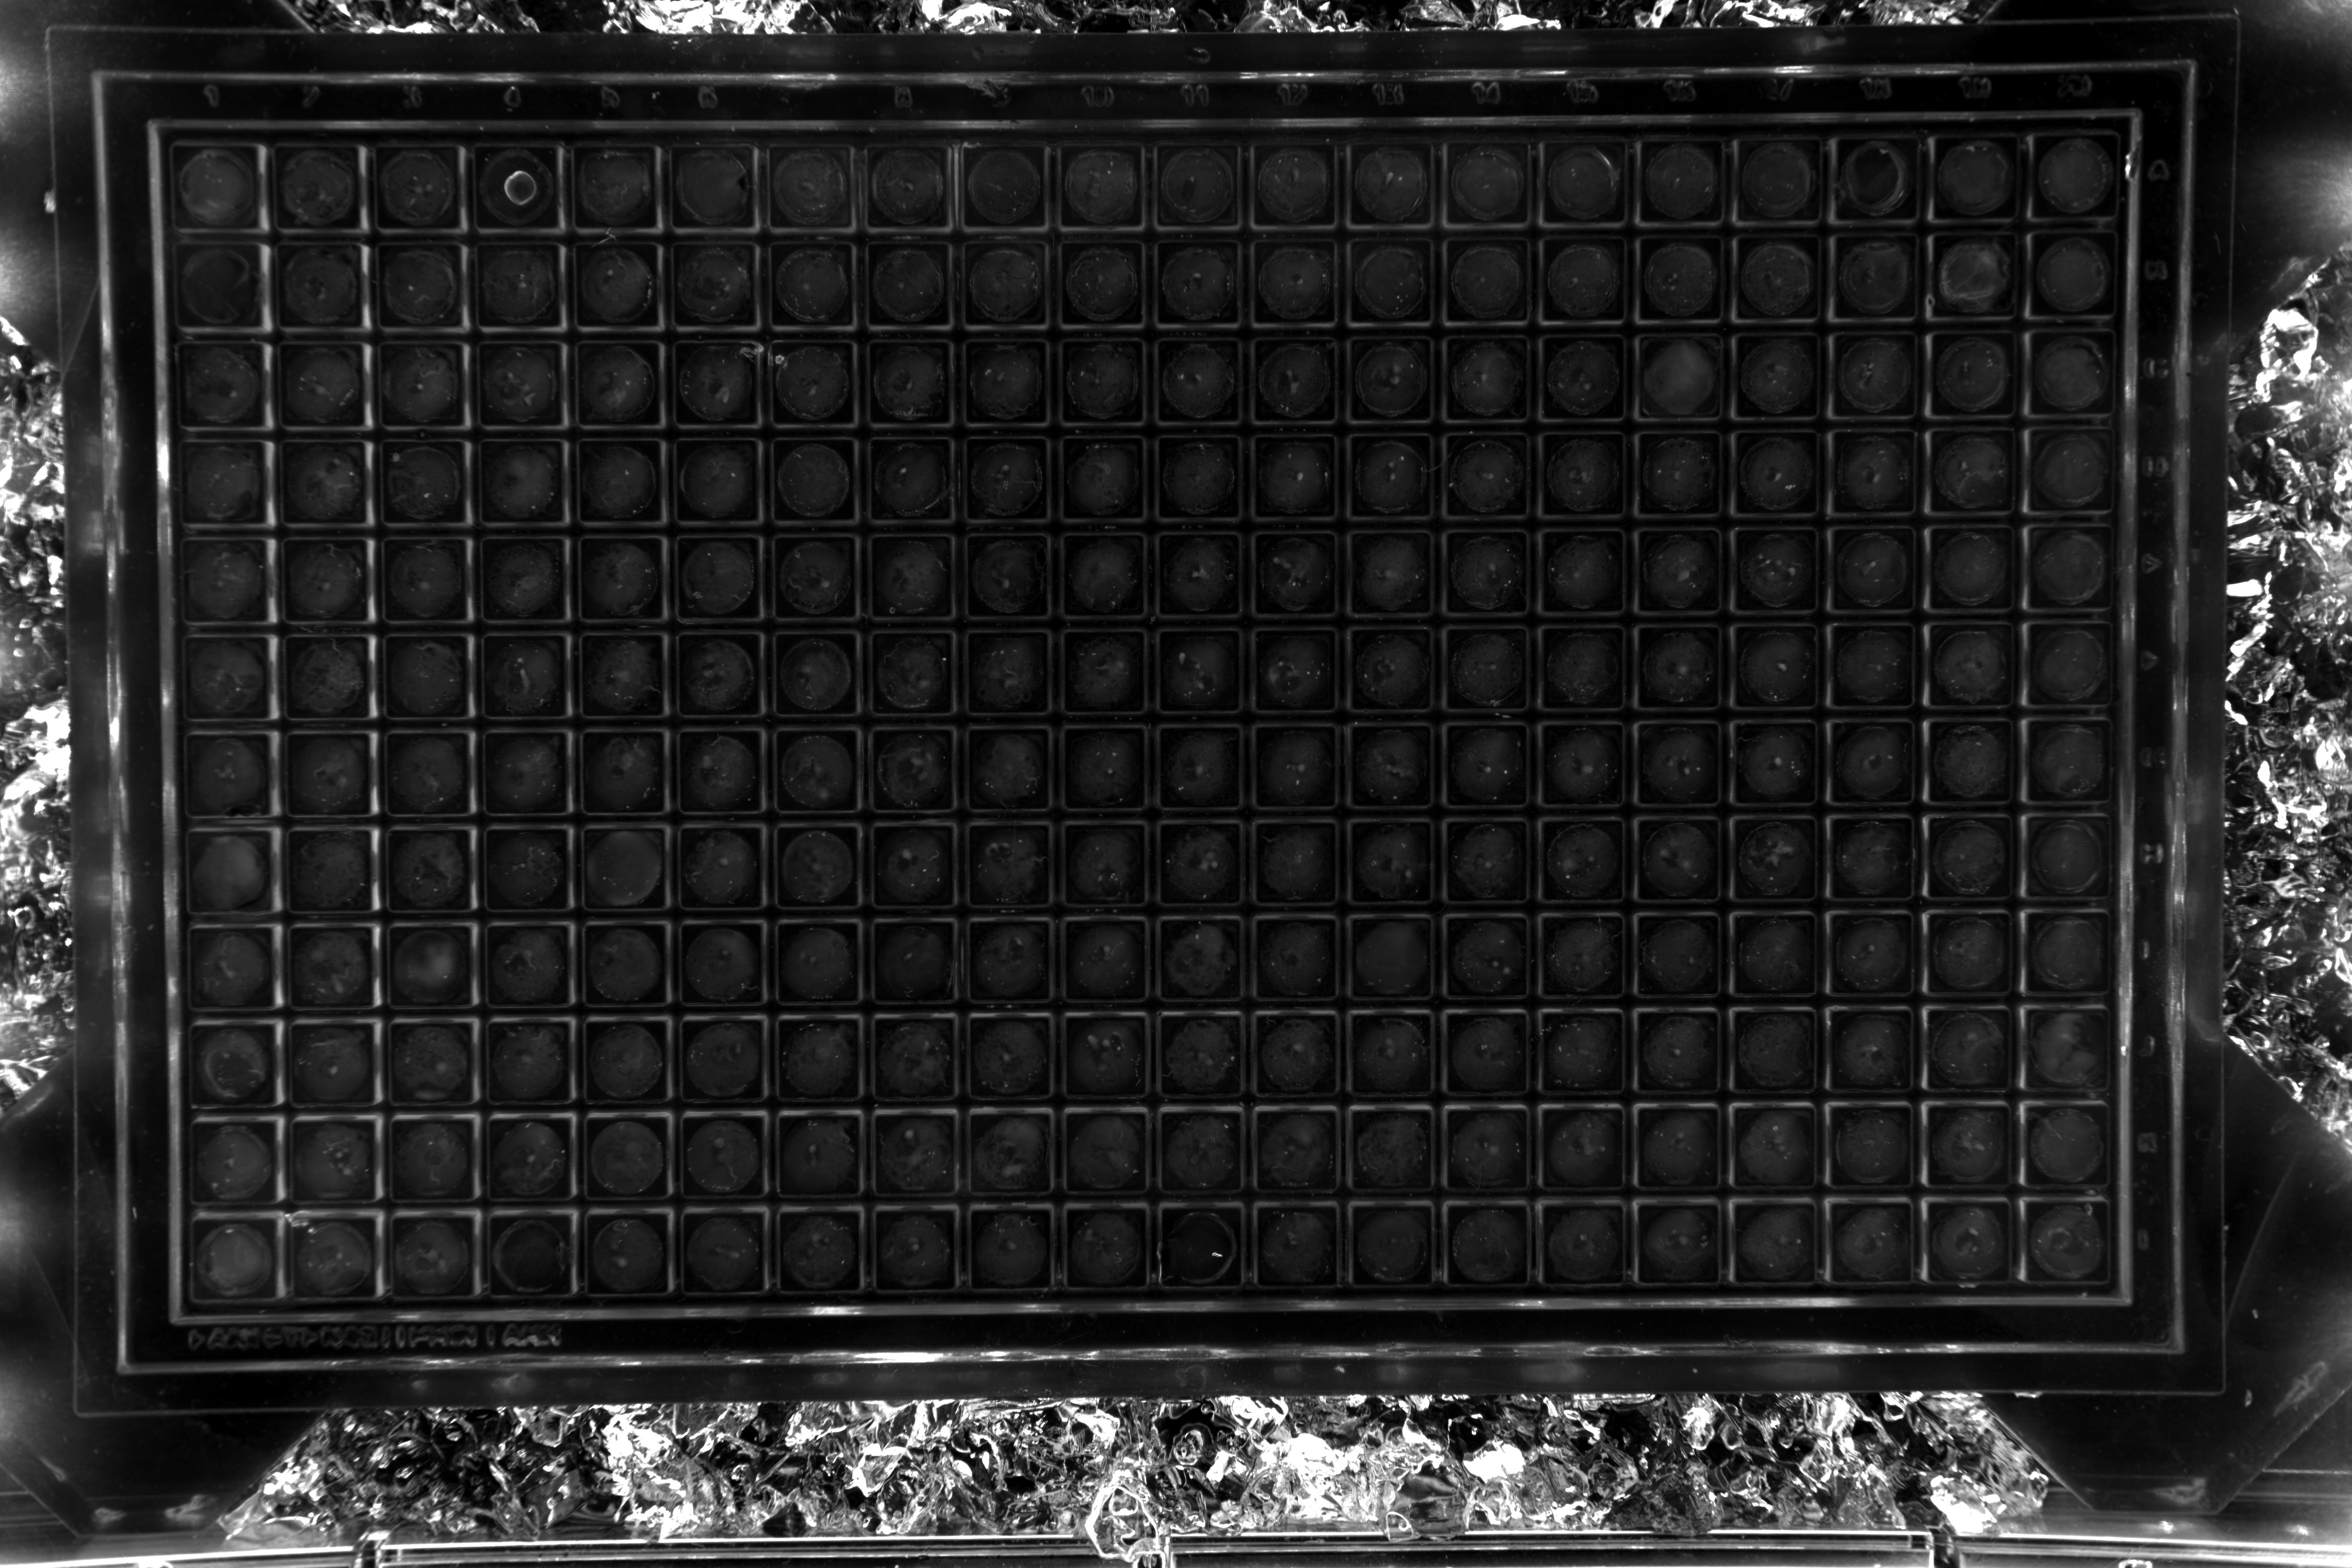WM_well: (493, 535, 583, 623), (497, 1214, 586, 1302), (689, 534, 779, 621), (789, 1018, 878, 1106), (885, 630, 975, 717), (982, 534, 1071, 621), (1176, 1209, 1263, 1298), (2063, 128, 2152, 215), (198, 436, 285, 523), (289, 138, 376, 226), (390, 238, 478, 325), (693, 1116, 780, 1204), (782, 142, 870, 229), (983, 630, 1071, 717), (983, 824, 1071, 912), (1080, 1017, 1167, 1104), (1176, 1017, 1263, 1104), (1465, 1211, 1552, 1298), (1468, 434, 1556, 521), (1563, 1017, 1650, 1104), (1568, 136, 1655, 224), (1956, 1115, 2044, 1202), (1962, 527, 2049, 614), (2056, 919, 2144, 1006), (2058, 821, 2145, 908)
